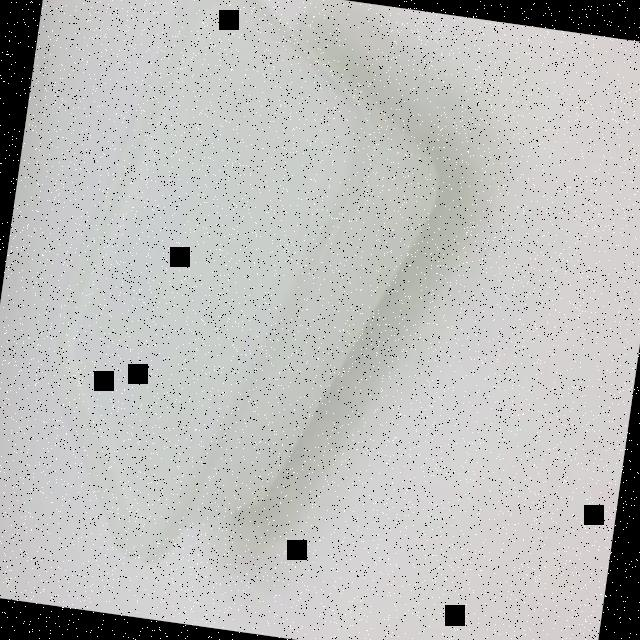plastic_box: (17, 0, 461, 591)
